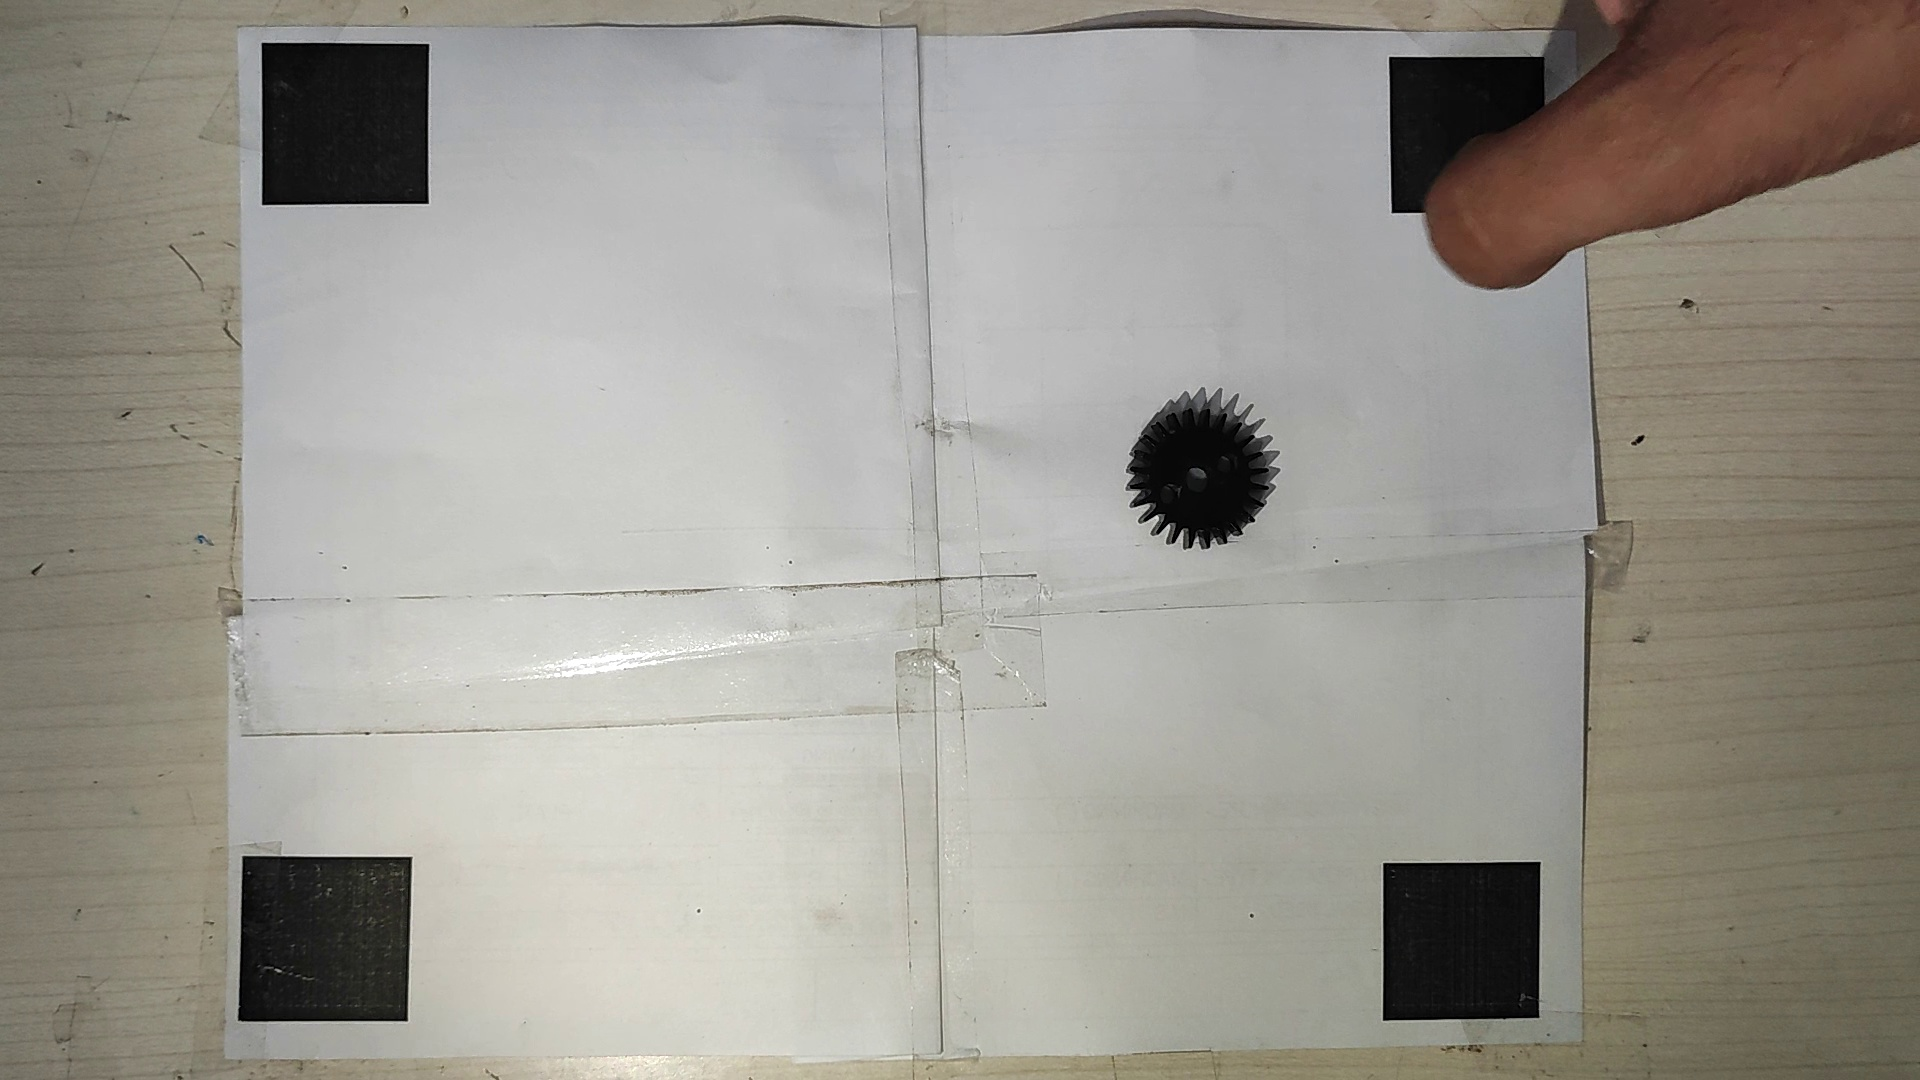Gear: (1121, 396, 1274, 551)
